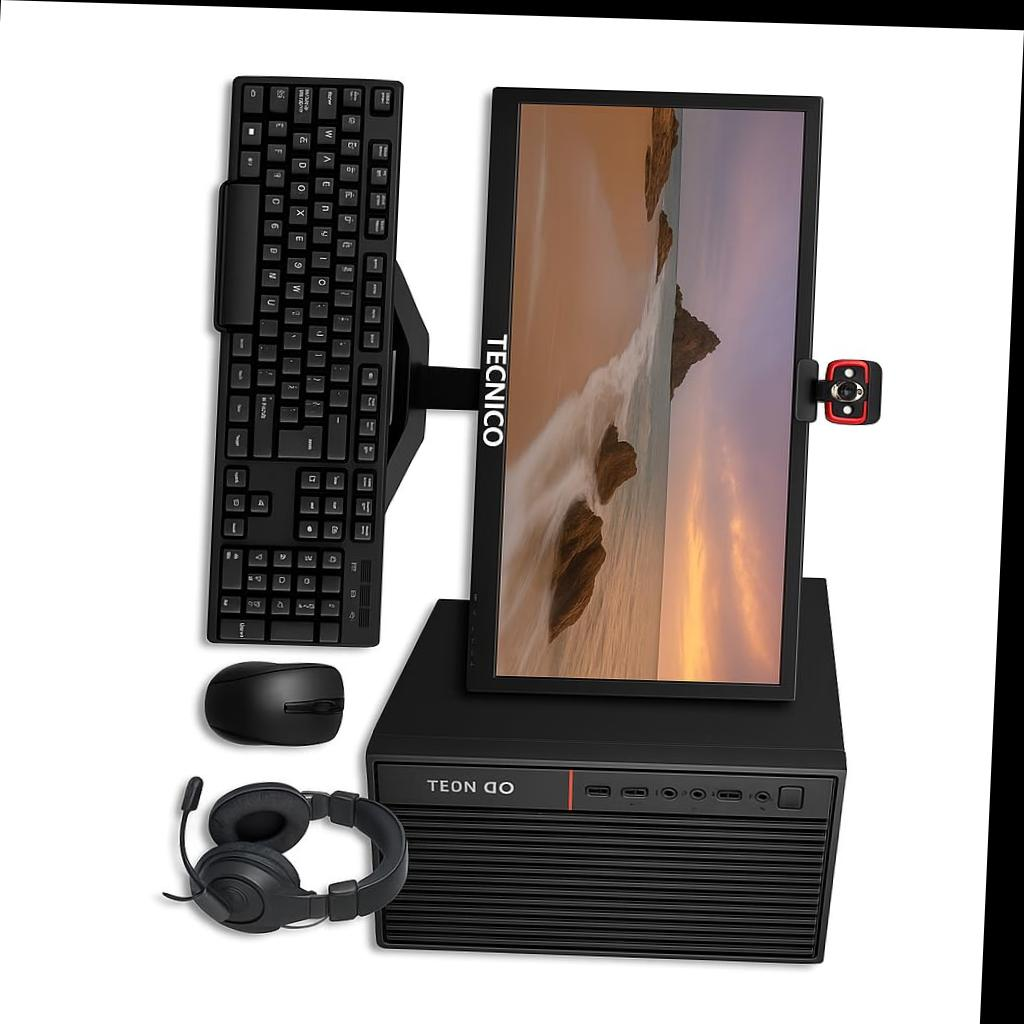keyboard: (190, 68, 421, 654)
monitor: (443, 81, 831, 713)
mouse: (182, 653, 369, 757)
pc: (357, 702, 861, 969)
